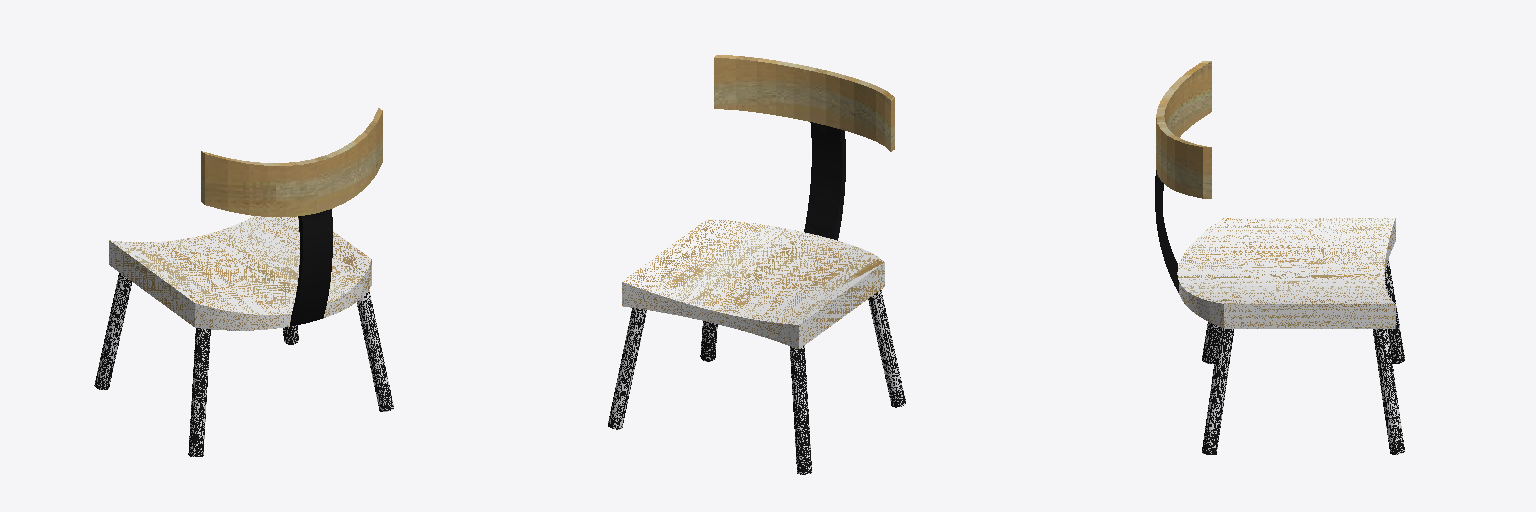
3 views of the same model, side by side, from view 1: azimuth 30°, elevation 25°; view 2: azimuth 150°, elevation 25°; view 3: azimuth 270°, elevation 25° (orthographic).
Visible parts, largest first — view 1: mesh1_mesh1-geometry, mesh2_mesh2-geometry, mesh3_mesh3-geometry, mesh5_mesh5-geometry, mesh4_mesh4-geometry; view 2: mesh1_mesh1-geometry, mesh2_mesh2-geometry, mesh3_mesh3-geometry, mesh4_mesh4-geometry, mesh5_mesh5-geometry; view 3: mesh1_mesh1-geometry, mesh2_mesh2-geometry, mesh5_mesh5-geometry, mesh4_mesh4-geometry, mesh3_mesh3-geometry.
Boxes of the visible parts, box(x1,y1,x2,y2) form: mesh1_mesh1-geometry: box(109, 216, 371, 330); mesh2_mesh2-geometry: box(201, 108, 382, 216); mesh3_mesh3-geometry: box(290, 209, 332, 326); mesh5_mesh5-geometry: box(94, 272, 393, 411); mesh4_mesh4-geometry: box(188, 325, 298, 456); mesh1_mesh1-geometry: box(622, 219, 884, 348); mesh2_mesh2-geometry: box(714, 55, 894, 151); mesh3_mesh3-geometry: box(804, 122, 845, 240); mesh4_mesh4-geometry: box(608, 290, 905, 429); mesh5_mesh5-geometry: box(700, 321, 811, 474); mesh1_mesh1-geometry: box(1177, 218, 1395, 328); mesh2_mesh2-geometry: box(1156, 61, 1211, 198); mesh5_mesh5-geometry: box(1202, 260, 1404, 454); mesh4_mesh4-geometry: box(1202, 322, 1404, 454); mesh3_mesh3-geometry: box(1155, 170, 1178, 292).
Bounding box in the file's own units: 0.4905 × 0.6981 × 0.5216.
Materials: 3 (1 with a texture image).